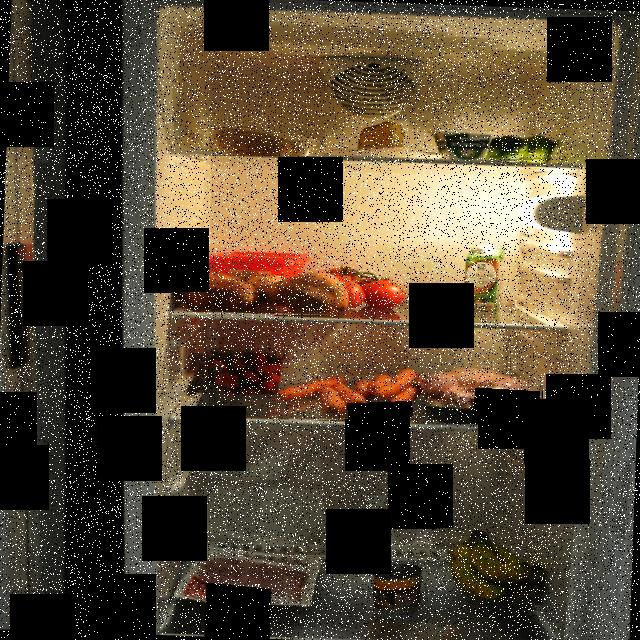banana: (437, 524, 549, 612)
butter: (200, 246, 315, 287)
carrot: (272, 364, 424, 422)
cheese: (354, 121, 409, 156)
chicken: (418, 359, 545, 424)
corn: (370, 564, 428, 616)
goat_cheese: (428, 130, 500, 162)
ham: (187, 548, 308, 604)
heavy_cream: (460, 242, 505, 322)
lime: (480, 136, 562, 163)
potato: (202, 114, 326, 156)
strawberries: (202, 338, 283, 394)
sweet_potato: (172, 268, 351, 318)
tomato: (320, 262, 406, 313)
